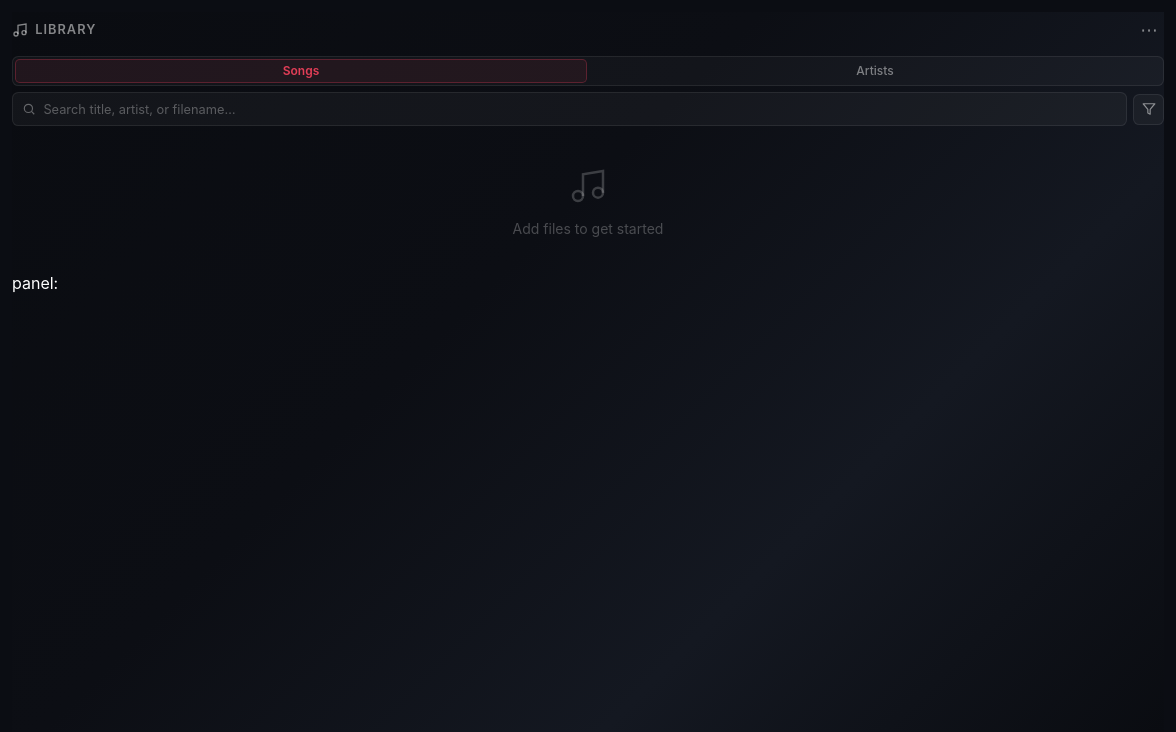
the library-panel mount › feeds the panel the live search query
Type "bowie" into the search field with class "search-input".
click(570, 109); type("bowie")  # box x1=12 y1=92 x2=1127 y2=126
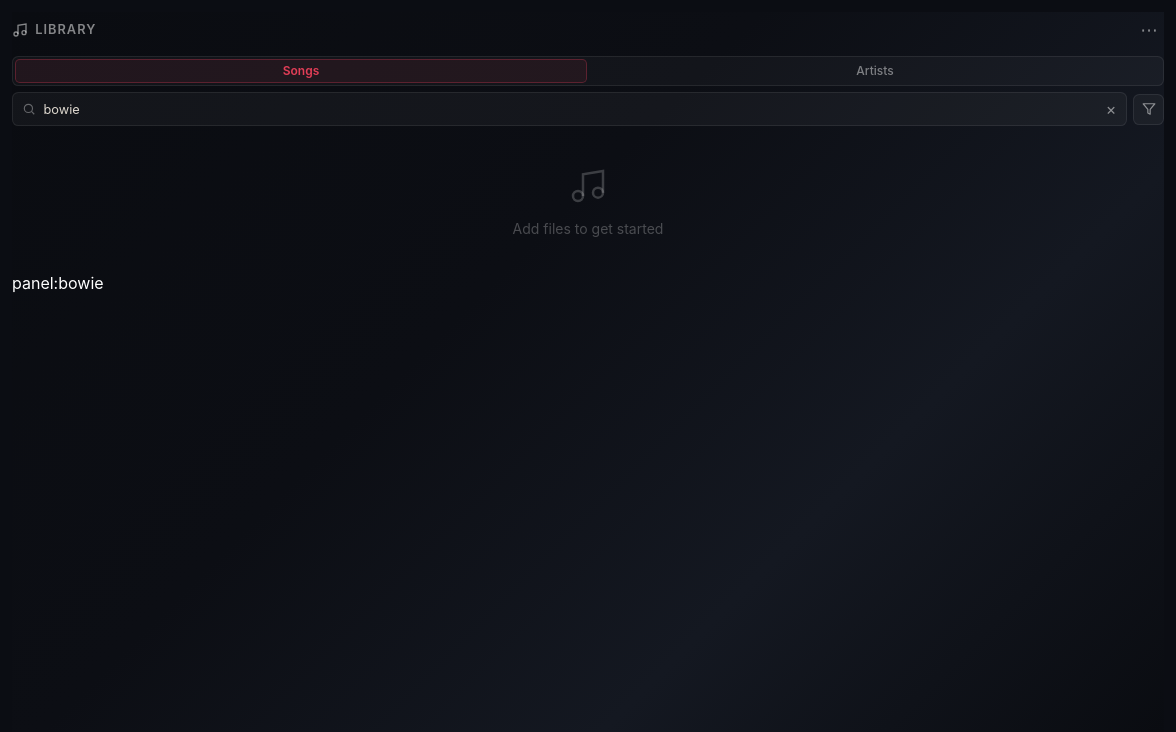
Expected: the text "panel:bowie" is shown, x1=12 y1=273 x2=104 y2=293
